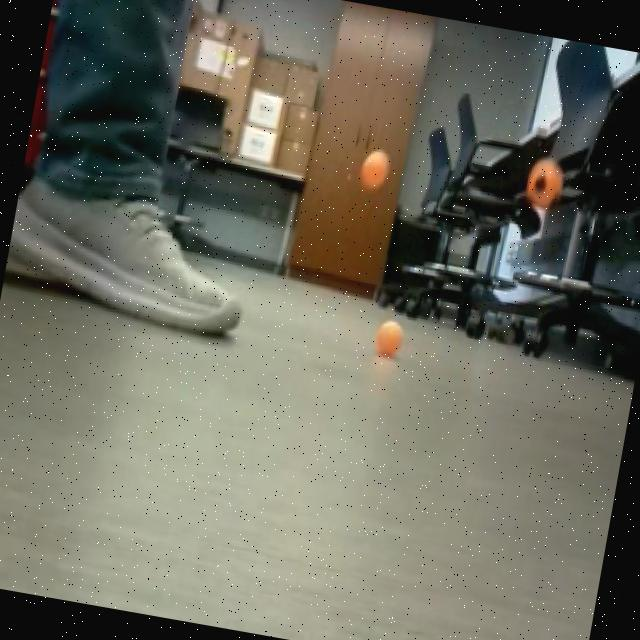ping-pong-ball: (520, 150, 568, 212), (350, 140, 394, 196), (369, 312, 408, 359)
